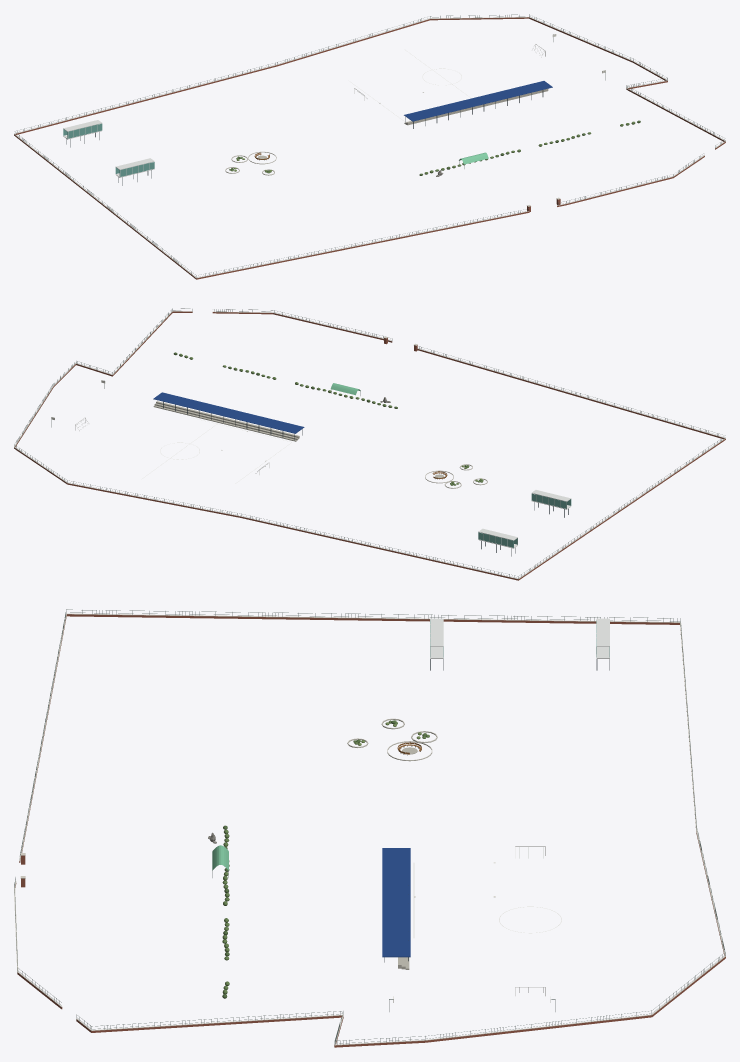
The picture shows the model from 3 angles, top to bottom: view 1: azimuth 30°, elevation 25°; view 2: azimuth 150°, elevation 25°; view 3: azimuth 270°, elevation 25°; orthographic projection. The views are drawn at different scales.
Parts seen in each view (by area): view 1: prop_boundary-fence, prop_field-stand, prop_glass-links; view 2: prop_boundary-fence, prop_field-stand, prop_glass-links; view 3: prop_boundary-fence, prop_field-stand, prop_glass-links.
Part boxes in pixels (x1,y1,x2,y2): prop_boundary-fence: (14, 14, 725, 279); prop_field-stand: (404, 81, 552, 128); prop_glass-links: (63, 120, 154, 185); prop_boundary-fence: (14, 308, 725, 580); prop_field-stand: (153, 392, 304, 441); prop_glass-links: (478, 490, 571, 556); prop_boundary-fence: (14, 609, 725, 1047); prop_field-stand: (382, 848, 410, 969); prop_glass-links: (430, 618, 609, 670).
Size of the model in its own units: 246 by 7.23 by 171.
